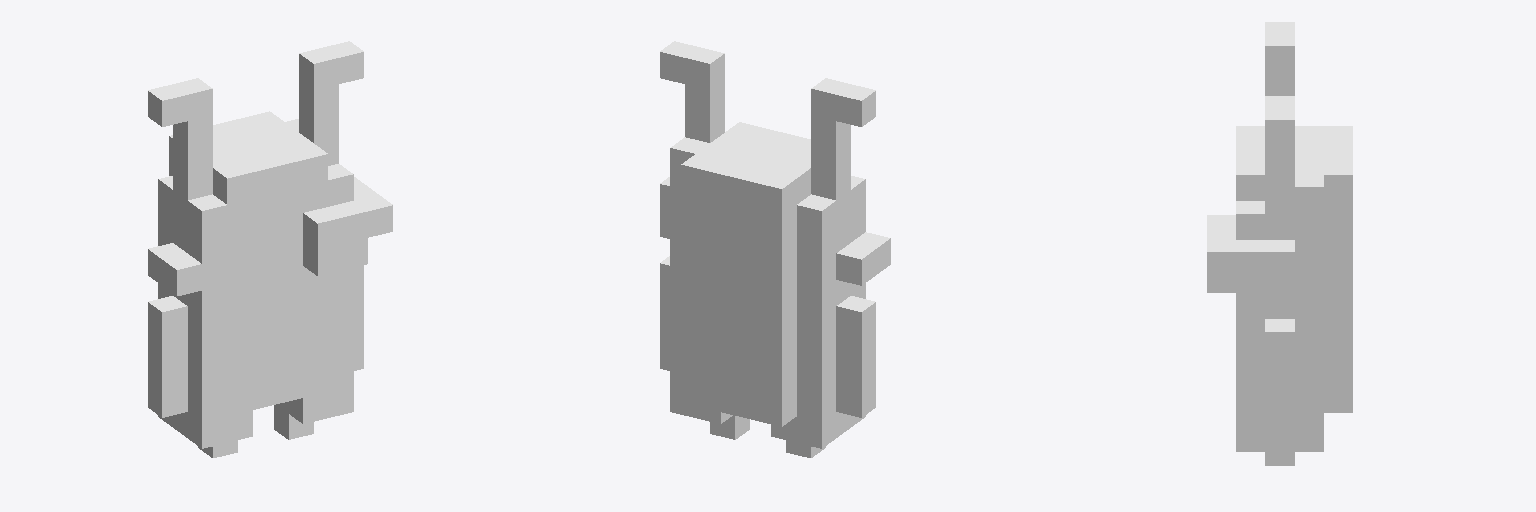
File: Alien6.obj
The picture shows the model from 3 angles: view 1: azimuth 30°, elevation 25°; view 2: azimuth 150°, elevation 25°; view 3: azimuth 270°, elevation 25°; orthographic projection.
Bounding box in the file's own units: 8 × 14 × 5.